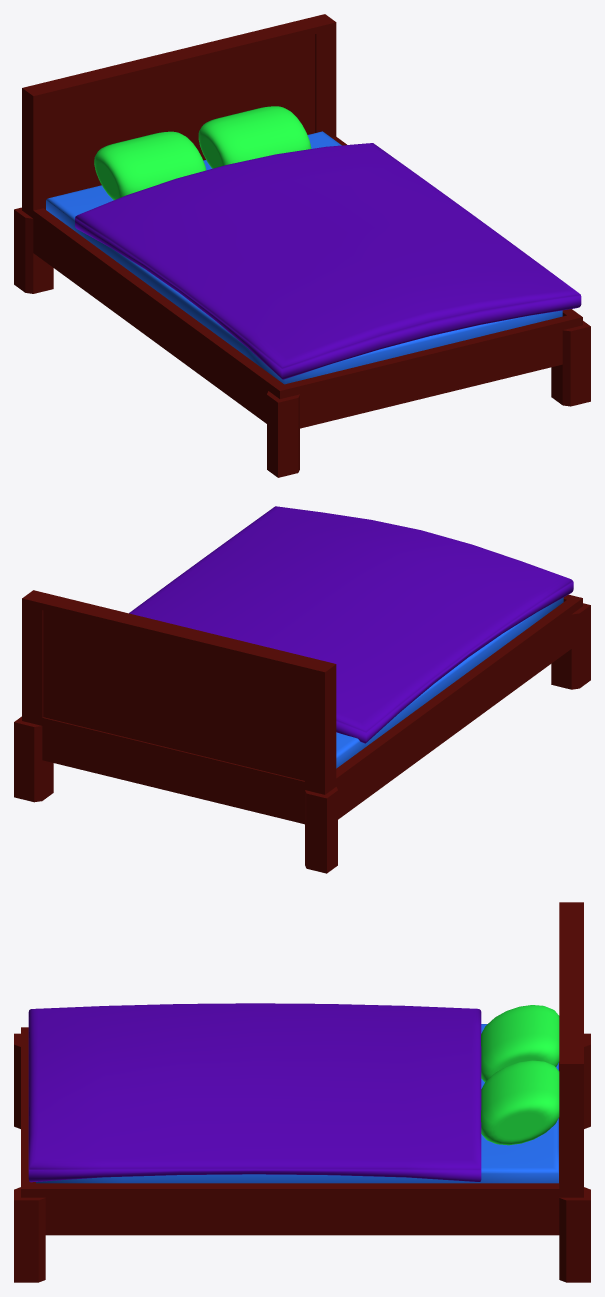
File: Bed.FBX
3 views of the same model, one above another, from view 1: azimuth 30°, elevation 25°; view 2: azimuth 150°, elevation 25°; view 3: azimuth 270°, elevation 25° (orthographic). The views are drawn at different scales.
Parts seen in each view (by area): view 1: Duvet, Bed, Pillows, Mattress; view 2: Bed, Duvet, Mattress; view 3: Duvet, Bed, Pillows, Mattress.
Boxes of the visible parts, left/top/right/bottom form: Duvet: left=75, top=143, right=581, bottom=379; Bed: left=14, top=14, right=590, bottom=477; Pillows: left=94, top=106, right=311, bottom=200; Mattress: left=46, top=131, right=562, bottom=384; Bed: left=14, top=590, right=590, bottom=873; Duvet: left=129, top=506, right=573, bottom=743; Mattress: left=336, top=597, right=563, bottom=768; Duvet: left=28, top=1003, right=481, bottom=1182; Bed: left=14, top=902, right=590, bottom=1282; Pillows: left=481, top=1005, right=559, bottom=1145; Mattress: left=36, top=1024, right=558, bottom=1183.
Size of the model in its own units: 105 by 63.58 by 154.
